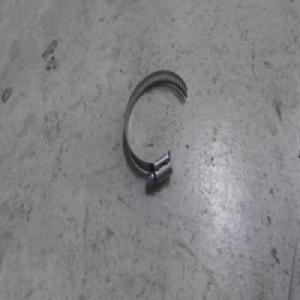AdjustableClamp: (123, 67, 188, 183)
